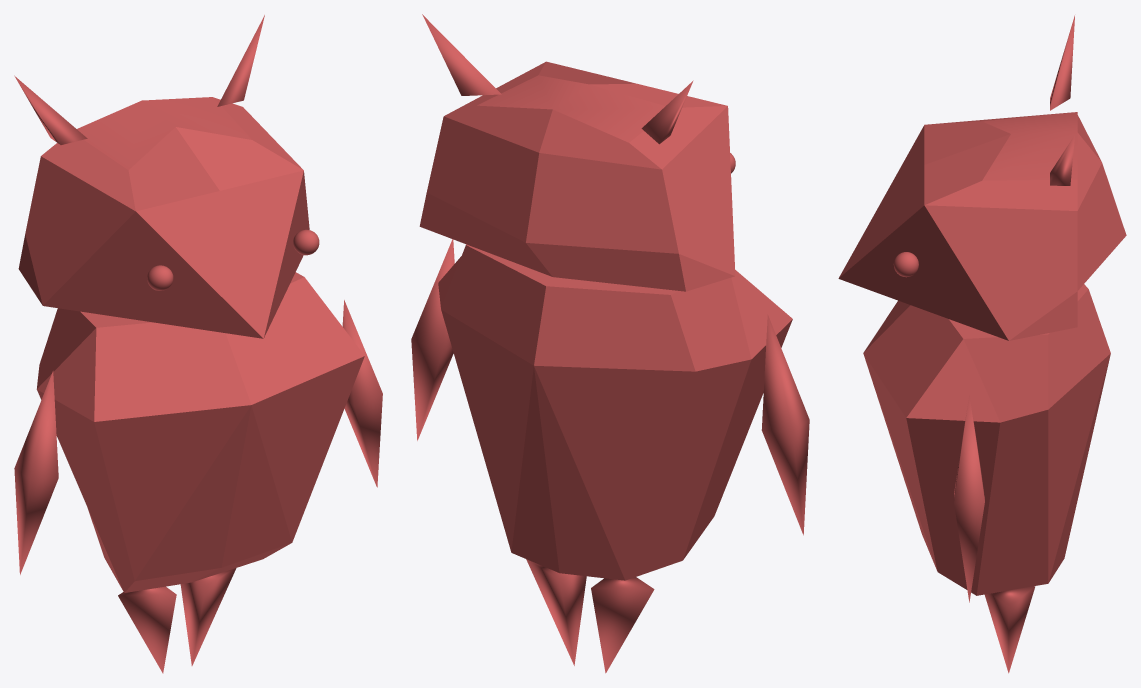
Rendered from internaut_red.glb.
The picture shows the model from 3 angles, left to right: view 1: azimuth 30°, elevation 25°; view 2: azimuth 150°, elevation 25°; view 3: azimuth 270°, elevation 25°; orthographic projection. The views are drawn at different scales.
Visible parts, largest first — view 1: mesh_id5, mesh_id4, mesh_id7, mesh_id6, mesh_id9, mesh_id8, mesh_id10, mesh_id11, mesh_id13, mesh_id12; view 2: mesh_id5, mesh_id4, mesh_id7, mesh_id6, mesh_id9, mesh_id8, mesh_id11, mesh_id10; view 3: mesh_id5, mesh_id4, mesh_id6, mesh_id8, mesh_id10, mesh_id11, mesh_id13.
Part boxes in pixels (x1,y1,x2,y2): mesh_id5: (36, 272, 364, 592); mesh_id4: (18, 97, 309, 338); mesh_id7: (14, 371, 58, 574); mesh_id6: (342, 300, 382, 487); mesh_id9: (118, 586, 176, 673); mesh_id8: (180, 568, 236, 665); mesh_id10: (14, 75, 87, 144); mesh_id11: (217, 15, 264, 106); mesh_id13: (293, 229, 319, 255); mesh_id12: (147, 265, 173, 290); mesh_id5: (438, 244, 792, 580); mesh_id4: (419, 61, 735, 291); mesh_id7: (761, 314, 809, 535); mesh_id6: (411, 239, 454, 440); mesh_id9: (591, 577, 654, 673); mesh_id8: (526, 559, 586, 665); mesh_id11: (422, 14, 501, 95); mesh_id10: (641, 80, 693, 144); mesh_id5: (863, 284, 1110, 595); mesh_id4: (838, 112, 1126, 340); mesh_id6: (954, 394, 984, 602); mesh_id8: (985, 586, 1035, 673); mesh_id10: (1050, 15, 1074, 110); mesh_id11: (1050, 135, 1074, 185); mesh_id13: (893, 252, 918, 277).
Size of the model in its own units: 0.3181 by 0.512 by 0.2263.
Materials: 10 (10 with a texture image).
